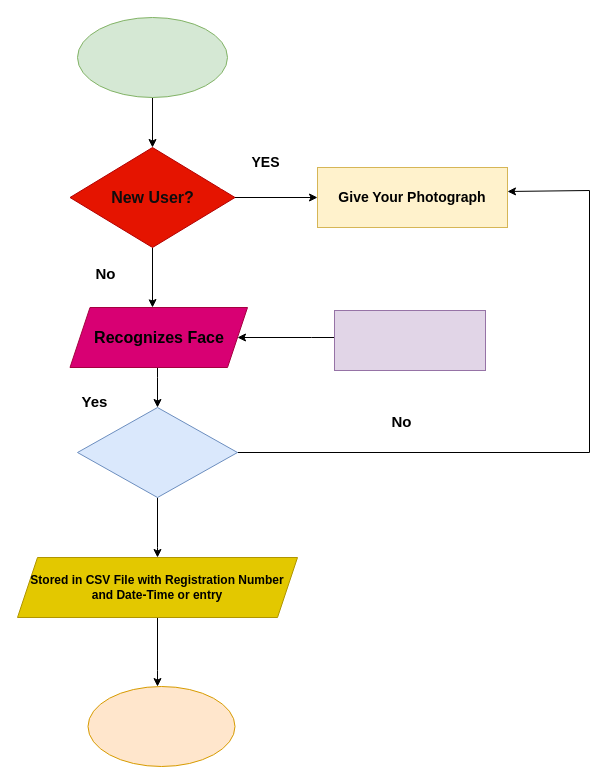
This 615x784 diagram has some shape labels left out. The centre of each missing label's shape, as x and y in pixels:
"End" goes at (x=161, y=726).
"Face Recognized" goes at (x=157, y=452).
"Start" goes at (x=152, y=57).
"Store the face data in the folder of your name" goes at (x=410, y=340).
